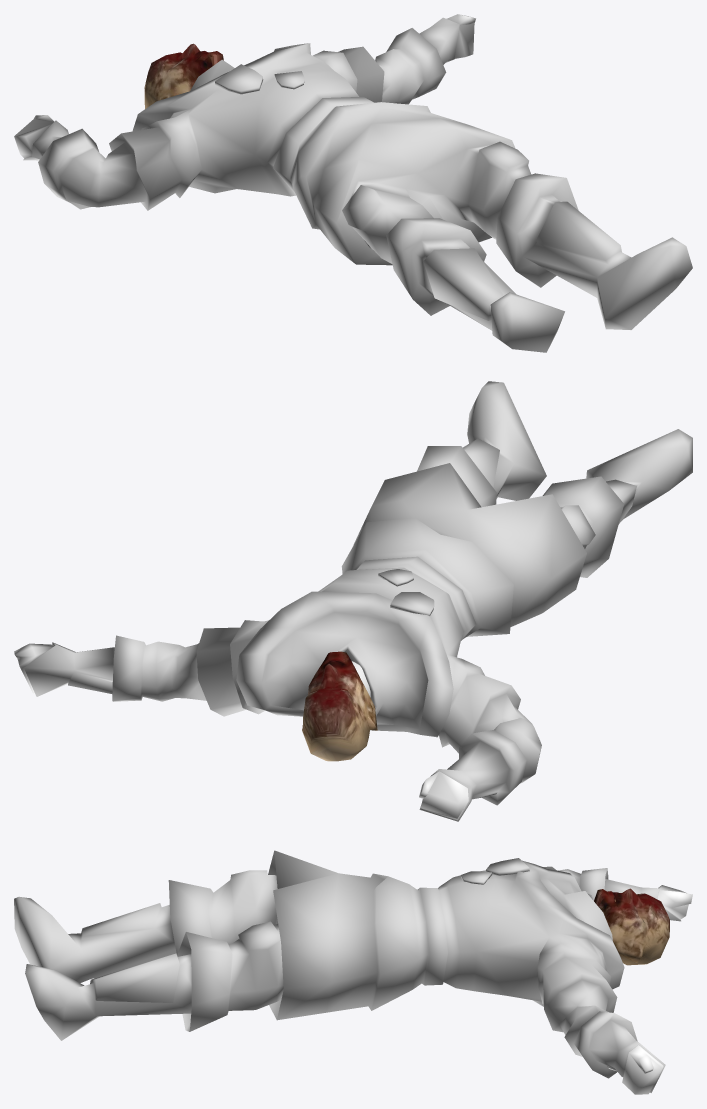
The model's file is KM_CITYONFIRE_CORPSE_MILITIA_07.glb.
3 views of the same model, one above another, from view 1: azimuth 30°, elevation 25°; view 2: azimuth 150°, elevation 25°; view 3: azimuth 270°, elevation 25° (orthographic). The views are drawn at different scales.
Visible parts, largest first — view 1: Mesh; view 2: Mesh; view 3: Mesh.
Part boxes in pixels (x1,y1,x2,y2): Mesh: (14,14,692,352); Mesh: (14,381,692,821); Mesh: (14,850,692,1094).
Bounding box in the file's own units: 1.43 × 0.4228 × 1.95.
Materials: 3 (1 with a texture image).
